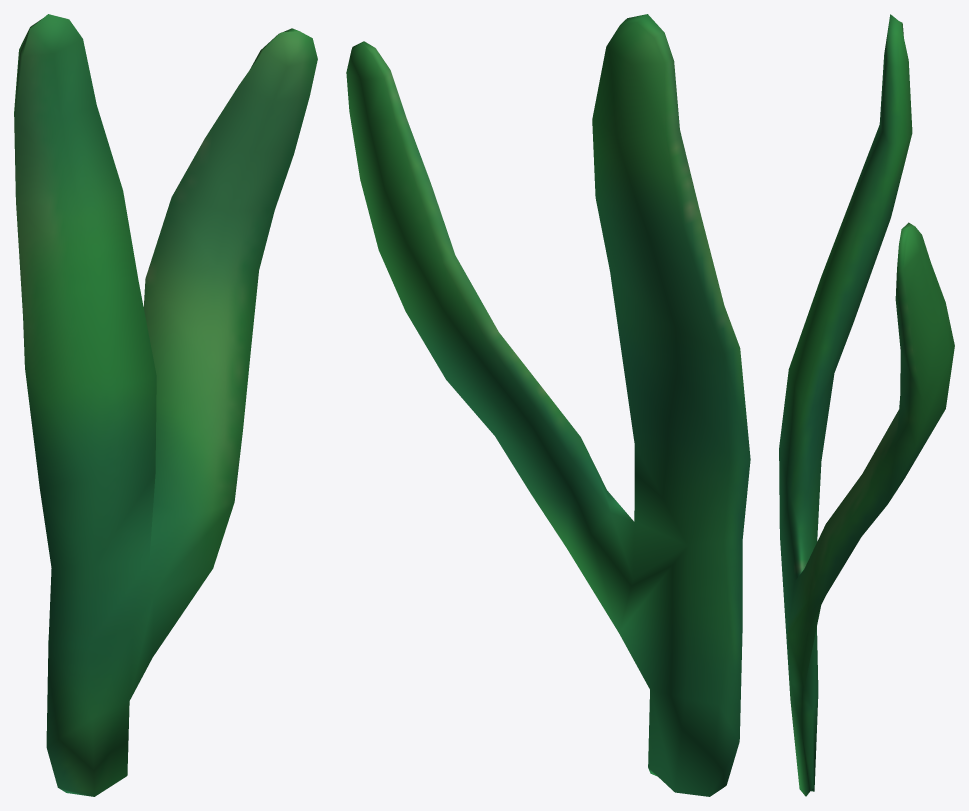
File: seaweed_2.glb
3 renders of one model, left to right at view 1: azimuth 30°, elevation 25°; view 2: azimuth 150°, elevation 25°; view 3: azimuth 270°, elevation 25°, orthographic. The views are drawn at different scales.
Parts seen in each view (by area): view 1: seaweed2; view 2: seaweed2; view 3: seaweed2.
Part boxes in pixels (<box>): seaweed2: <box>14,14,317,796</box>; seaweed2: <box>346,14,750,796</box>; seaweed2: <box>779,14,954,796</box>.
Size of the model in its own units: 75.97 by 167 by 34.32.
Materials: 1 (1 with a texture image).
